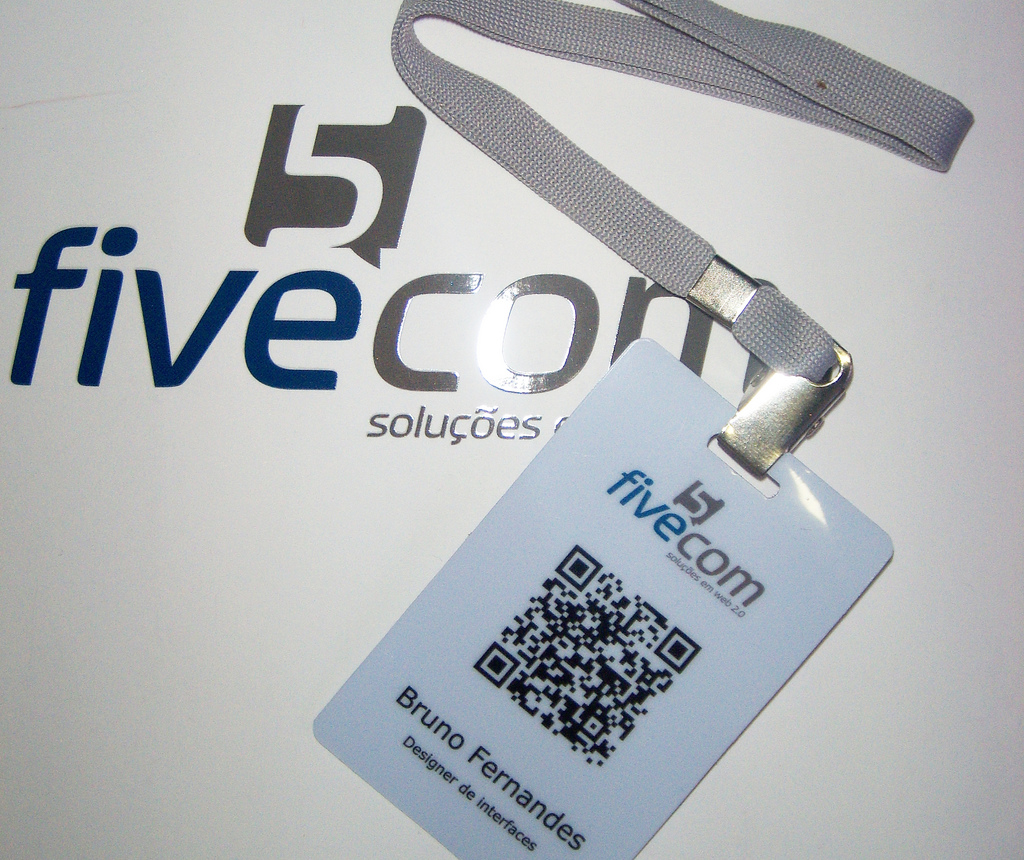QR-CODE: (473, 544, 702, 767)
